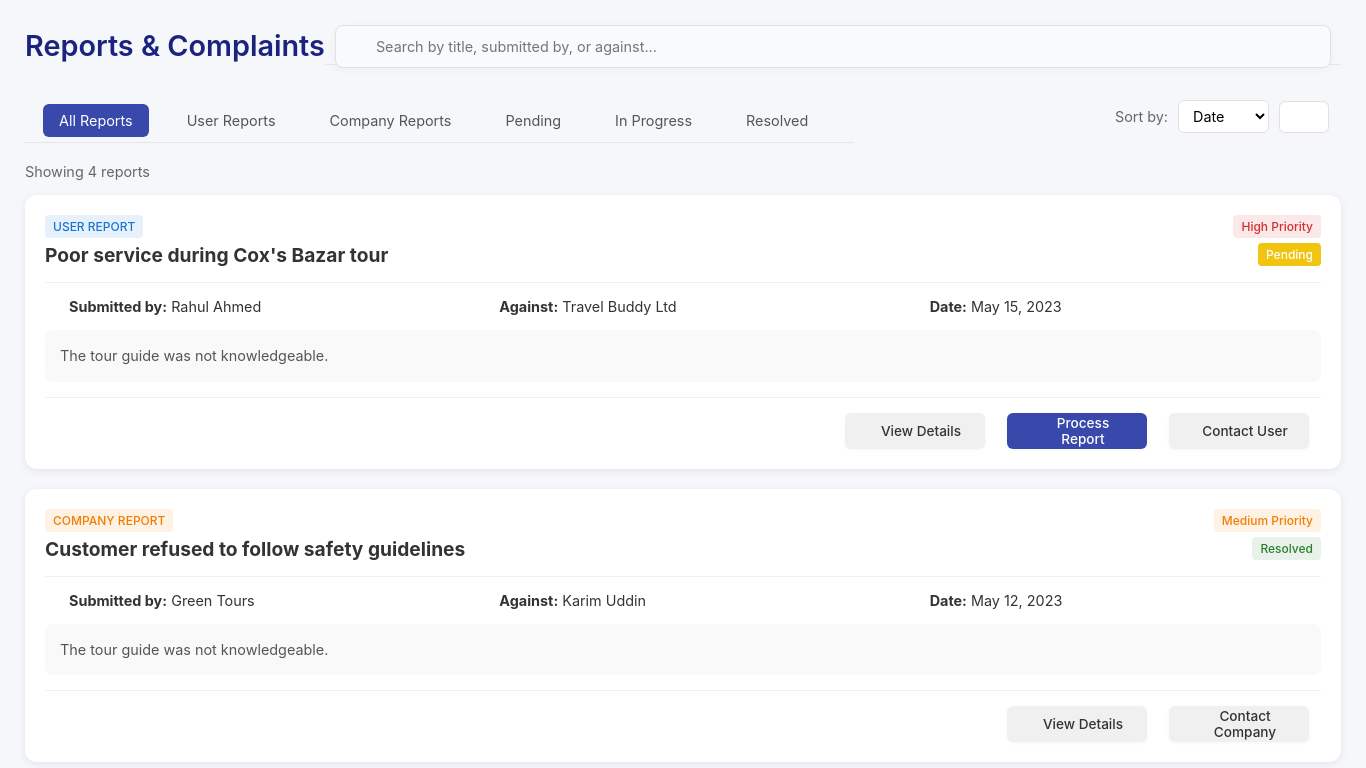
Test: persists a status change through the API and offers the next action
The image size is (1366, 768).
What coordinates should you click on to do the following:
click the button "Process Report"
I would click on:
 (1077, 431)
Its box is [1007,413,1147,449].
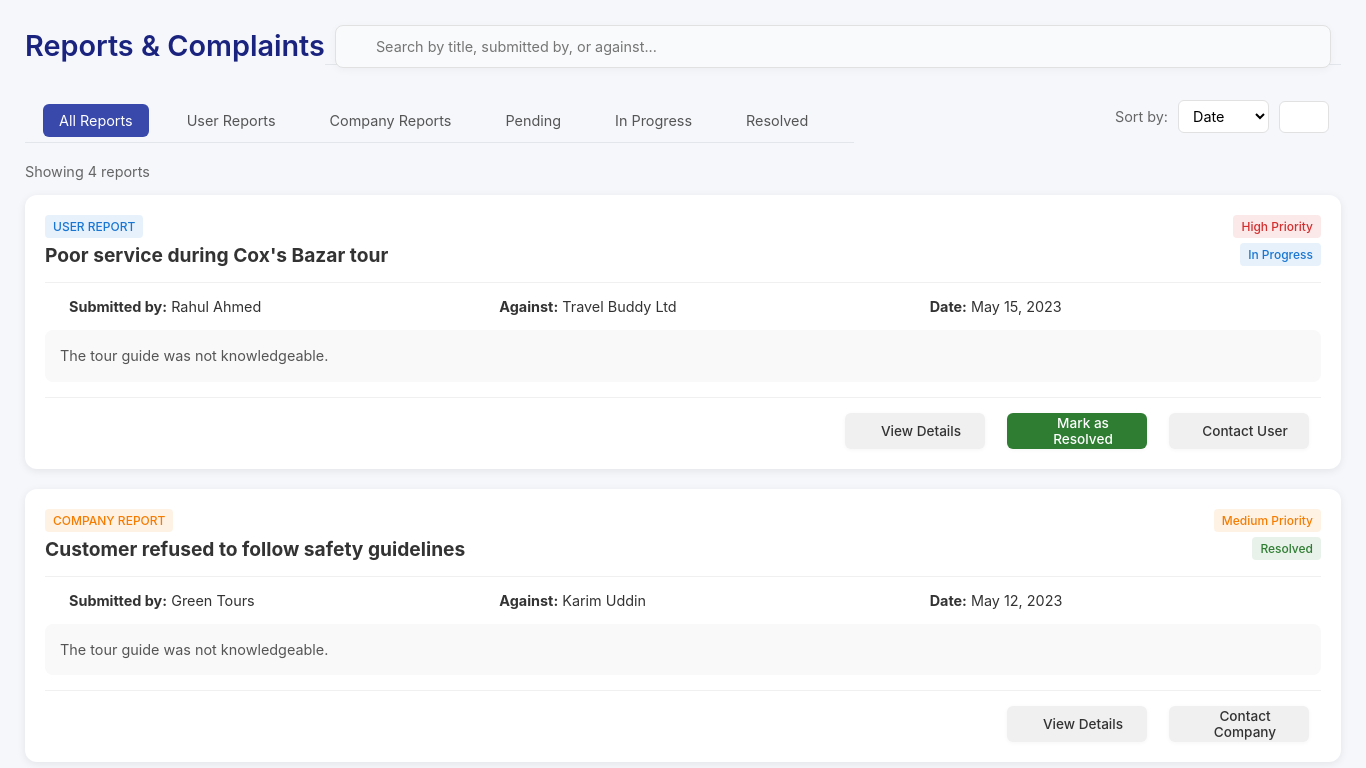
Expected: the button "Process Report" is not shown
Result: the button "Mark as Resolved" is shown at [1007,413,1147,449]
